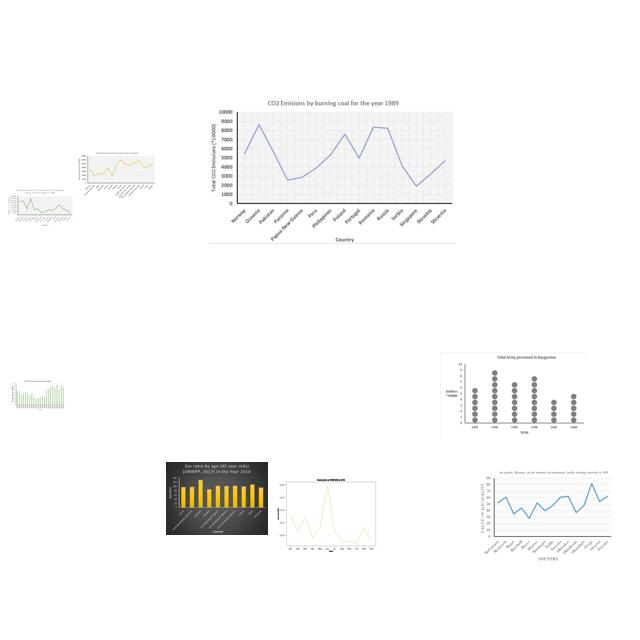Graph: (210, 98, 456, 244), (478, 468, 614, 563), (440, 352, 587, 438), (269, 472, 390, 555), (166, 462, 268, 535), (78, 151, 156, 198), (6, 188, 73, 227), (11, 380, 65, 411)
